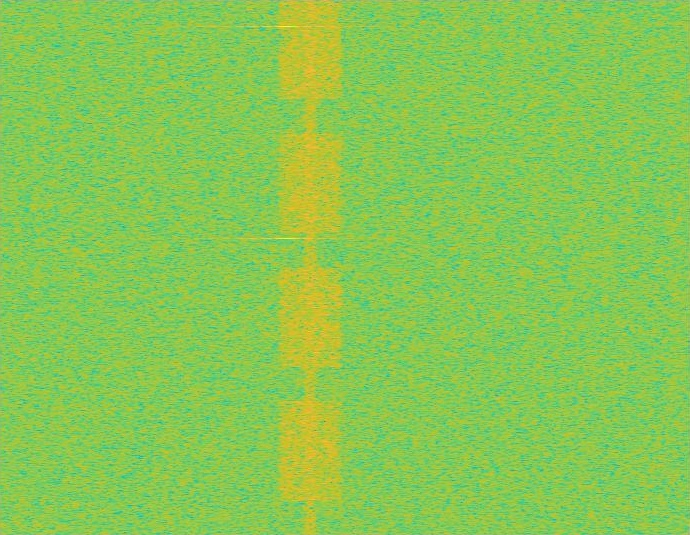5G: (276, 0, 345, 534)
DSSS: (303, 0, 318, 534)
Radar: (280, 0, 294, 534)
